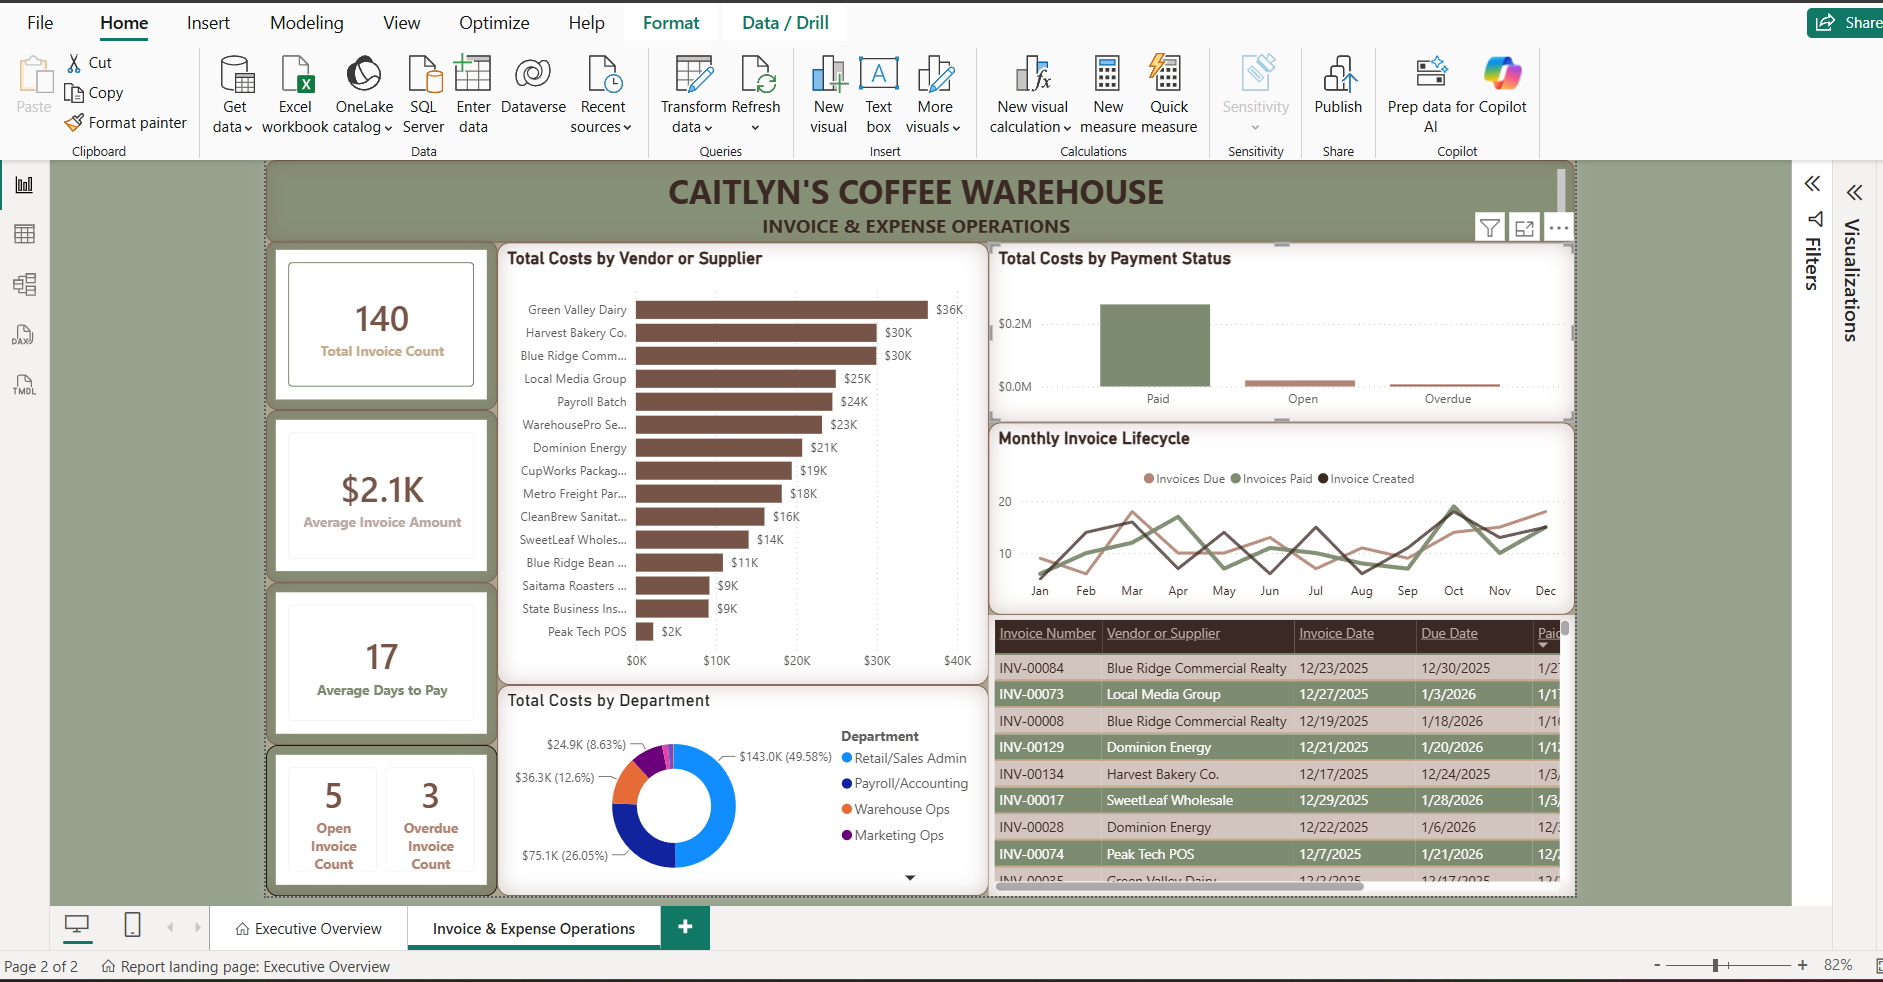

The dashboard page shown, as its layout file describes it:
{"tool":"powerbi","page":{"name":"Invoice & Expense Operations","canvas":[1280,720],"ordinal":1},"visuals":[{"type":"cardVisual","fields":{"Data":["Measures (2).Total Invoice Count"]},"box":[0,78.3,226.2,166.3],"z":0},{"type":"textbox","box":[0,0,1280.3,80.7],"z":1000},{"type":"cardVisual","fields":{"Data":["Measures (2).Average Invoice Amount"]},"box":[0,244.6,226.2,168.8],"z":2000},{"type":"cardVisual","fields":{"Data":["Measures (2).Average Days to Pay"]},"box":[0,413.3,226.2,159],"z":3000},{"type":"cardVisual","fields":{"Data":["Measures (2).Open Invoice Count","Measures (2).Overdue Invoice Count"]},"box":[0,572.3,226.2,148],"z":4000},{"type":"clusteredColumnChart","fields":{"Category":["Costs_Raw PQ.Payment Status"],"Y":["Measures (2).Total Costs"]},"box":[706.8,80.7,573.5,176.1],"z":5000},{"type":"clusteredBarChart","fields":{"Y":["Measures (2).Total Costs"],"Category":["Costs_Raw PQ.Vendor or Supplier"]},"box":[226.2,80.7,480.6,432.9],"z":6000},{"type":"lineChart","title":"Monthly Invoice Lifecycle","fields":{"Category":["Date.Month"],"Y":["Measures (2).Invoices Due","Measures (2).Invoices Paid","Measures (2).Invoice Created"]},"box":[706.8,256.8,573.5,188.3],"z":7000},{"type":"donutChart","fields":{"Category":["Costs_Raw PQ.Department"],"Y":["Measures (2).Total Costs"]},"box":[226.2,513.6,480.6,206.7],"z":8000},{"type":"tableEx","fields":{"Values":["Costs_Raw PQ.Invoice Number                    ","Costs_Raw PQ.Vendor or Supplier","Costs_Raw PQ.Invoice Date","Costs_Raw PQ.Due Date","Costs_Raw PQ.Paid Date","Costs_Raw PQ.Payment Status","Sum(Costs_Raw PQ.Total Cost)"]},"box":[706.8,445.1,573.5,275.1],"z":9000}]}

Visuals, with their boxes on the page's 1280x720 design canvas (x1, y1, x2, y2). These are canvas units, not pixel positions in the 1883x982 screenshot, which may show the page scaled, cropped or inside an application window:
cardVisual - Measures (2).Total Invoice Count: 0, 78, 226, 245
textbox: 0, 0, 1280, 81
cardVisual - Measures (2).Average Invoice Amount: 0, 245, 226, 413
cardVisual - Measures (2).Average Days to Pay: 0, 413, 226, 572
cardVisual - Measures (2).Open Invoice Count x Measures (2).Overdue Invoice Count: 0, 572, 226, 720
clusteredColumnChart - Costs_Raw PQ.Payment Status x Measures (2).Total Costs: 707, 81, 1280, 257
clusteredBarChart - Measures (2).Total Costs x Costs_Raw PQ.Vendor or Supplier: 226, 81, 707, 514
"Monthly Invoice Lifecycle" lineChart: 707, 257, 1280, 445
donutChart - Costs_Raw PQ.Department x Measures (2).Total Costs: 226, 514, 707, 720
tableEx - Costs_Raw PQ.Invoice Number                     x Costs_Raw PQ.Vendor or Supplier: 707, 445, 1280, 720
